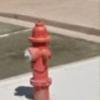a fire hydrant: (23, 21, 55, 100)
